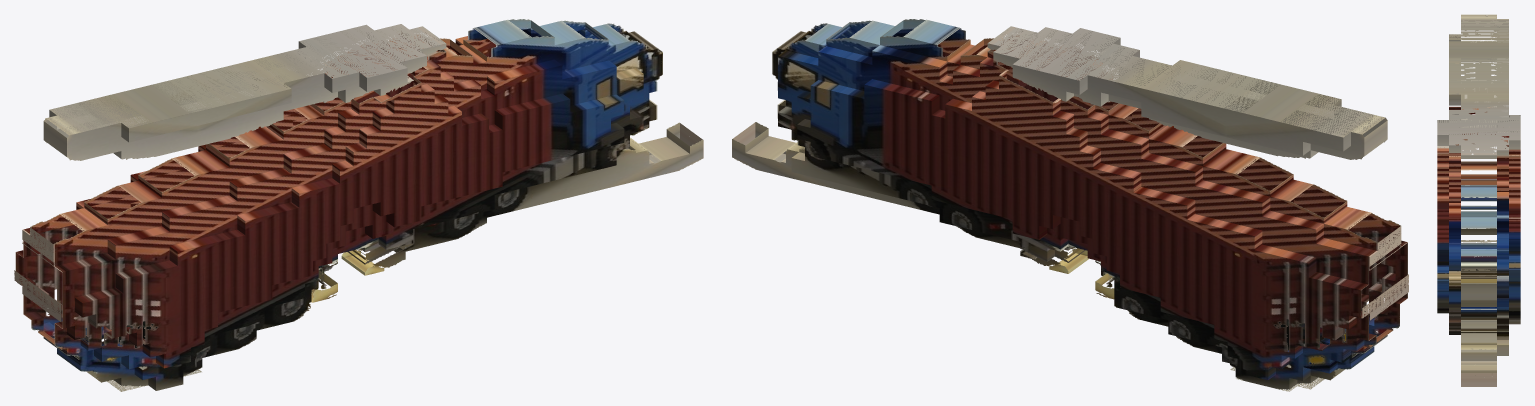
The model's file is cont.glb.
The picture shows the model from 3 angles, left to right: view 1: azimuth 30°, elevation 25°; view 2: azimuth 150°, elevation 25°; view 3: azimuth 270°, elevation 25°; orthographic projection. The views are drawn at different scales.
Parts seen in each view (by area): view 1: cont; view 2: cont; view 3: cont.
Part boxes in pixels (<box>): cont: <box>14,19,703,391</box>; cont: <box>732,19,1408,391</box>; cont: <box>1437,14,1520,386</box>.
Size of the model in its own units: 48 by 19 by 7.
Materials: 1 (1 with a texture image).
